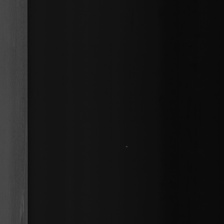silk_spot: (15, 130, 26, 216)
